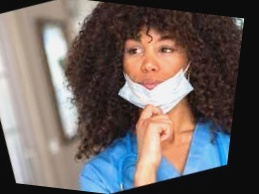mask_weared_incorrect: (119, 14, 202, 119)
